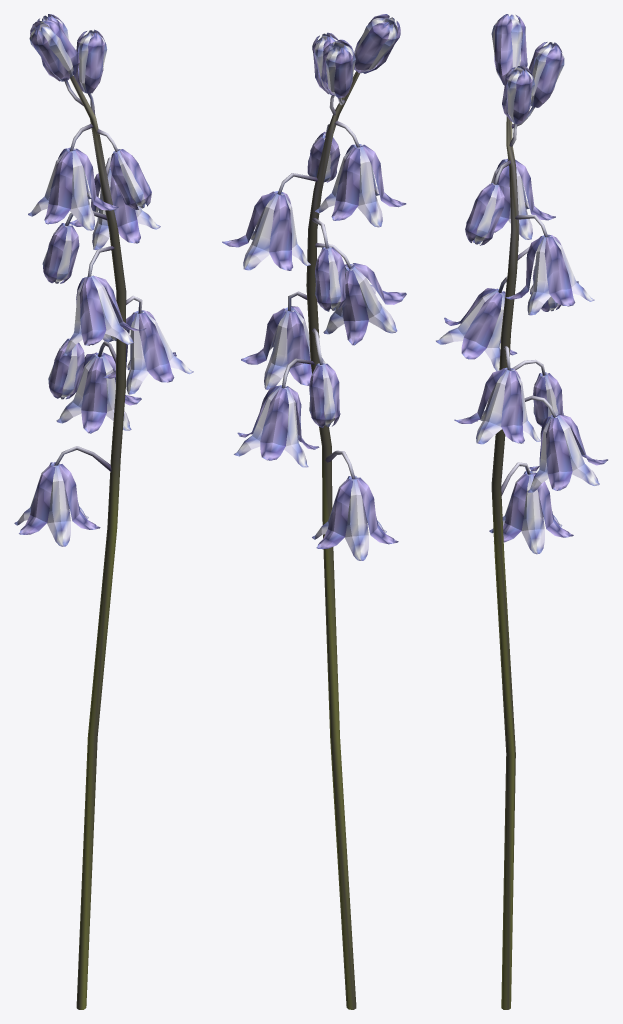
Rendered from flower_03.glb.
The picture shows the model from 3 angles, left to right: view 1: azimuth 30°, elevation 25°; view 2: azimuth 150°, elevation 25°; view 3: azimuth 270°, elevation 25°; orthographic projection. The views are drawn at different scales.
Visible parts, largest first — view 1: stem, petal.092, petal.086, petal.068, petal.080, petal.129, petal.134, petal, petal.074, petal.083, petal.108, petal.075 (+18 smaller); view 2: stem, petal.091, petal.067, petal.079, petal.073, petal.131, petal.085, petal.133, petal.065, petal.070, petal.082, petal.077 (+13 smaller); view 3: stem, petal.078, petal.090, petal.072, petal.084, petal.130, petal.081, petal.132, petal.098, petal.069, petal.104, petal.088 (+18 smaller).
Part boxes in pixels (left/top/right/bottom): stem: left=70, top=75, right=126, bottom=1009; petal.092: left=81, top=357, right=107, bottom=433; petal.086: left=139, top=312, right=174, bottom=382; petal.068: left=44, top=151, right=72, bottom=224; petal.080: left=79, top=277, right=106, bottom=345; petal.129: left=47, top=465, right=70, bottom=546; petal.134: left=19, top=465, right=55, bottom=534; petal: left=70, top=150, right=94, bottom=230; petal.074: left=110, top=174, right=140, bottom=243; petal.083: left=126, top=313, right=148, bottom=394; petal.108: left=85, top=32, right=104, bottom=93; petal.075: left=89, top=276, right=133, bottom=344; stem: left=306, top=71, right=360, bottom=1009; petal.091: left=260, top=388, right=288, bottom=460; petal.067: left=331, top=147, right=360, bottom=220; petal.079: left=342, top=269, right=368, bottom=345; petal.073: left=269, top=194, right=292, bottom=270; petal.131: left=344, top=479, right=368, bottom=560; petal.085: left=287, top=311, right=311, bottom=385; petal.133: left=316, top=479, right=352, bottom=549; petal.065: left=357, top=146, right=382, bottom=227; petal.070: left=243, top=193, right=280, bottom=270; petal.082: left=264, top=310, right=290, bottom=389; petal.077: left=350, top=266, right=397, bottom=333; stem: left=491, top=116, right=519, bottom=1009; petal.078: left=461, top=292, right=502, bottom=359; petal.090: left=546, top=417, right=572, bottom=490; petal.072: left=544, top=237, right=575, bottom=306; petal.084: left=501, top=370, right=524, bottom=443; petal.130: left=521, top=474, right=544, bottom=554; petal.081: left=476, top=369, right=510, bottom=444; petal.132: left=493, top=474, right=529, bottom=542; petal.098: left=495, top=14, right=512, bottom=84; petal.069: left=527, top=237, right=550, bottom=315; petal.104: left=533, top=45, right=562, bottom=107; petal.088: left=555, top=415, right=599, bottom=485.
Size of the model in its own units: 0.042 by 0.2553 by 0.041.
